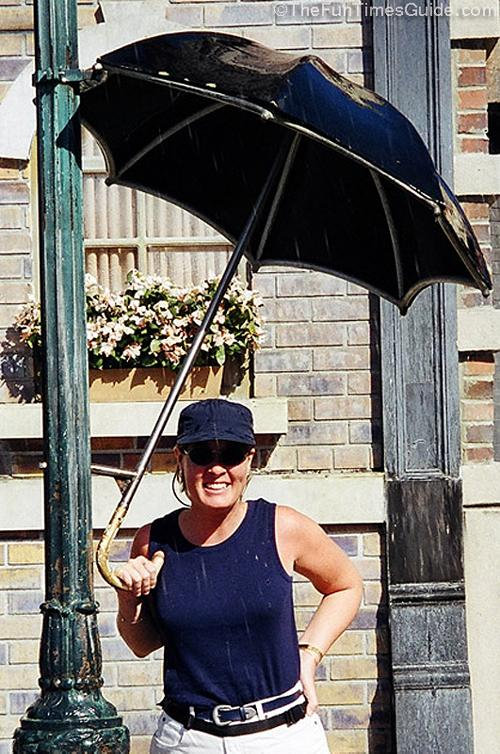person: (118, 398, 366, 754)
